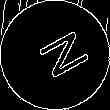N_SW: (23, 25, 87, 85)
